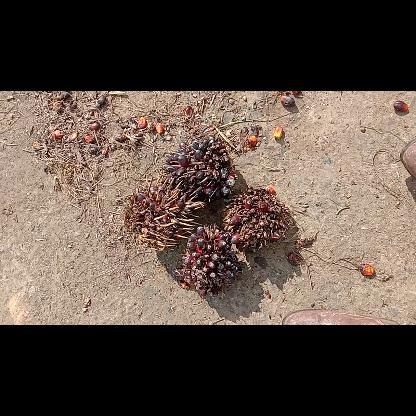TBS abnormal: (124, 176, 202, 250), (156, 136, 238, 200), (174, 224, 242, 296), (221, 189, 291, 251)
